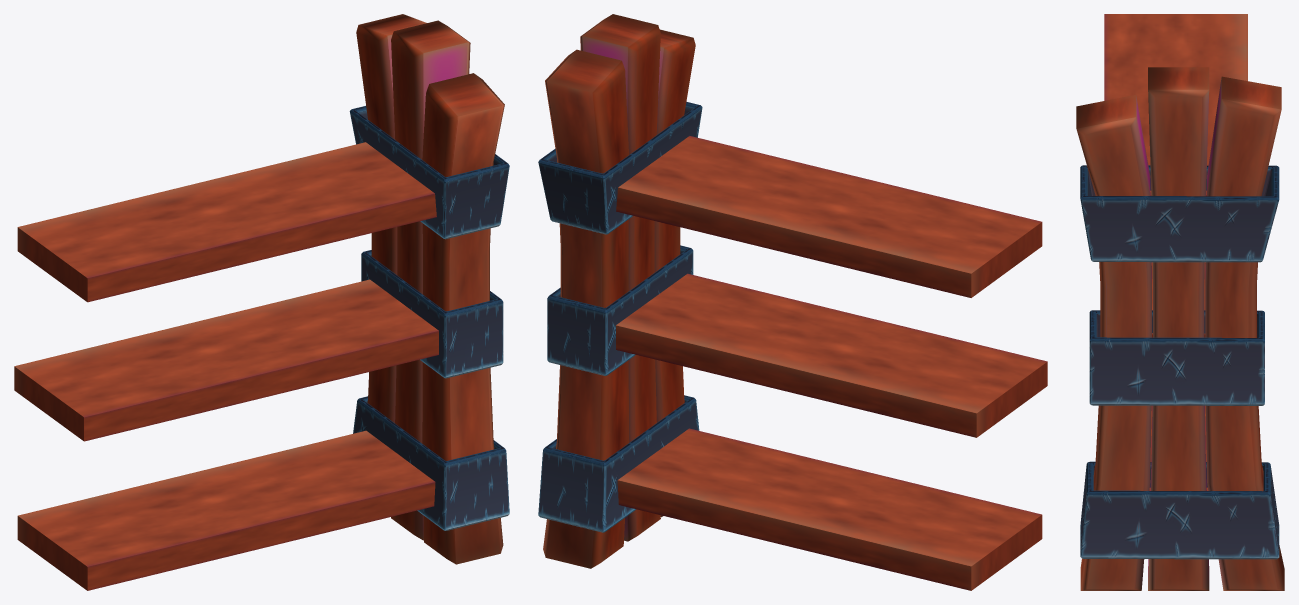
Rendered from regal_2.fbx.
3 views of the same model, side by side, from view 1: azimuth 30°, elevation 25°; view 2: azimuth 150°, elevation 25°; view 3: azimuth 270°, elevation 25° (orthographic). The views are drawn at different scales.
Parts seen in each view (by area): view 1: l_leg.005, wall_v2.016, wall_v2.019, wall_v2.018, Cube.044, Cube.043, Cube.045; view 2: l_leg.005, wall_v2.016, wall_v2.019, wall_v2.018, Cube.044, Cube.045, Cube.043; view 3: l_leg.005, Cube.044, Cube.043, Cube.045, wall_v2.018.
Part boxes in pixels (x1,y1,x2,y2): l_leg.005: (356,14,504,564); wall_v2.016: (14,279,438,441); wall_v2.019: (17,430,435,590); wall_v2.018: (17,142,436,302); Cube.044: (353,396,509,530); Cube.043: (349,106,509,239); Cube.045: (361,250,503,378); l_leg.005: (543,14,695,568); wall_v2.016: (616,273,1047,437); wall_v2.019: (617,428,1042,590); wall_v2.018: (616,136,1042,297); Cube.044: (538,395,699,532); Cube.045: (547,245,693,375); Cube.043: (538,101,702,234); l_leg.005: (1076,67,1284,590); Cube.044: (1080,461,1279,559); Cube.043: (1080,165,1279,262); Cube.045: (1089,310,1264,405); wall_v2.018: (1104,14,1247,196).
Bounding box in the file's own units: 844 × 944 × 355.
